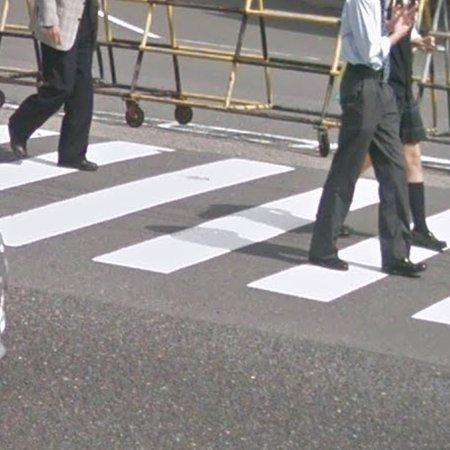crosswalks: (0, 118, 450, 325)
